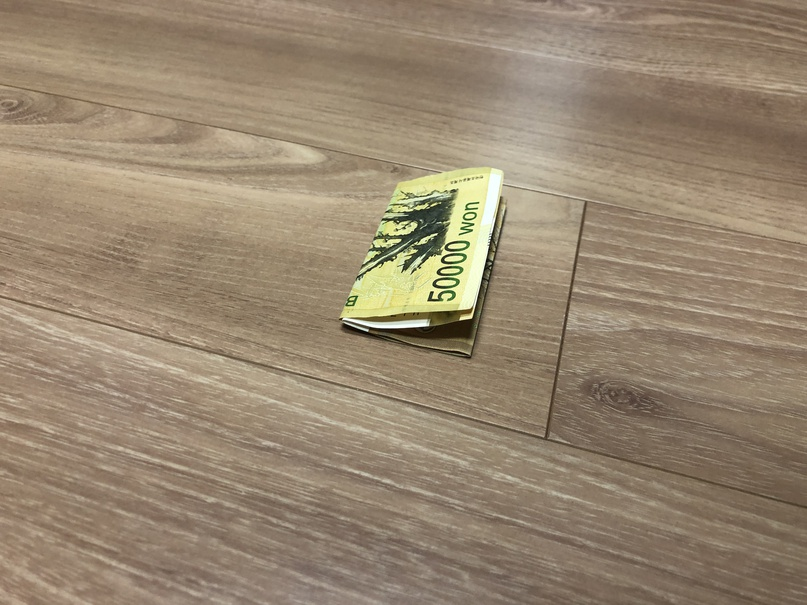50000won: (339, 166, 508, 358)
